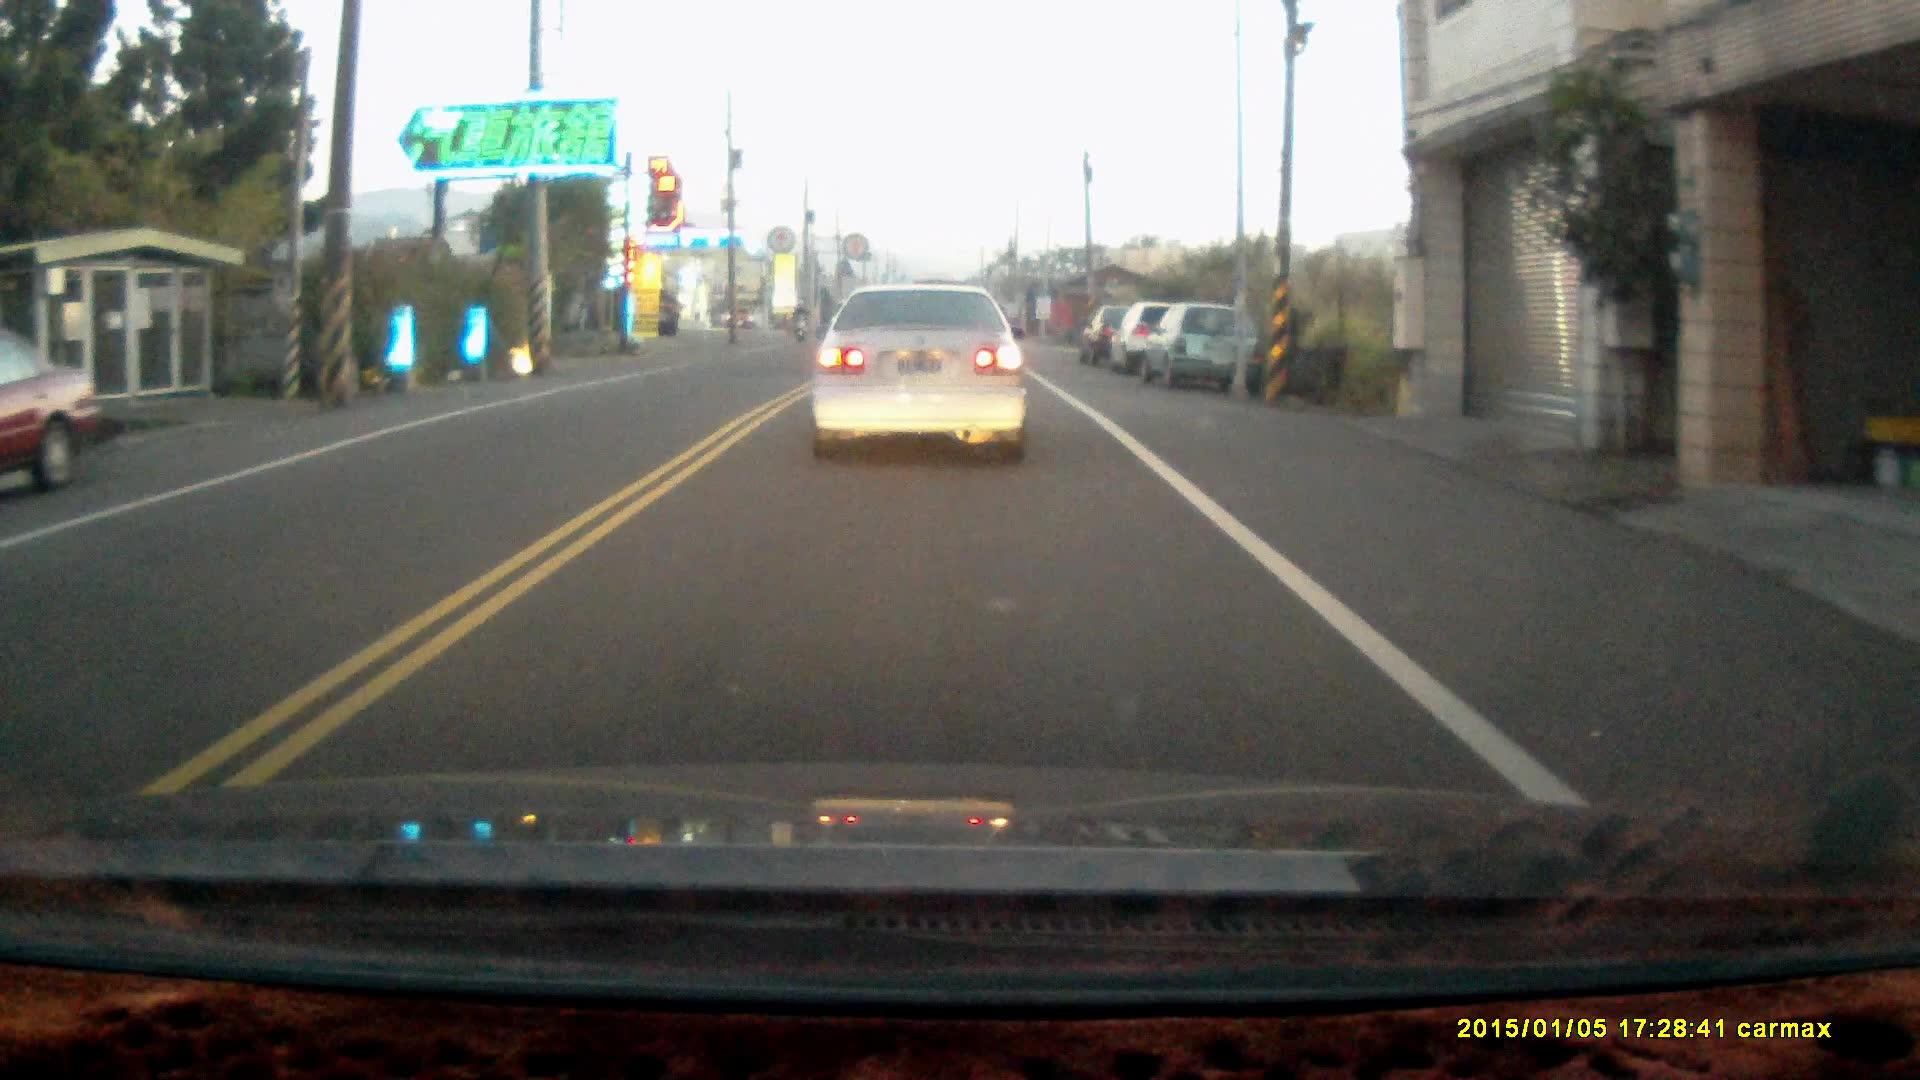vehicle: (808, 278, 1030, 462), (1, 334, 102, 498), (1147, 303, 1265, 400), (1116, 297, 1209, 371), (1073, 302, 1171, 363)
